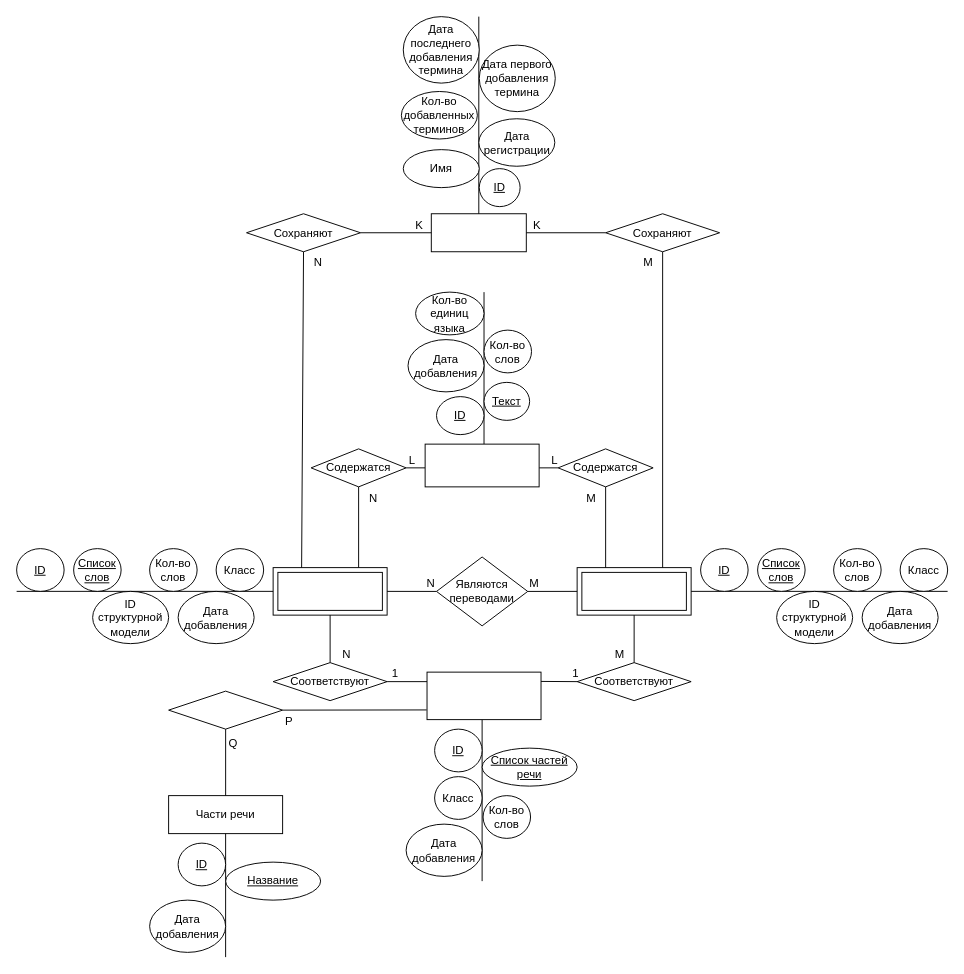
The diagram is 964 pixels wide and 974 high, and some of its shapes have lost their labels. The shapes that lost their labels are listed below. From the top down, each one's centre as x and y in pixels, then its label:
At pixel 478 232: "Пользователи".
At pixel 481 465: "Контексты".
At pixel 329 591: "Единицы английского языка".
At pixel 633 591: "Единицы русского языка".
At pixel 225 709: "Состоят из".
At pixel 483 695: "Структурные модели терминов".
